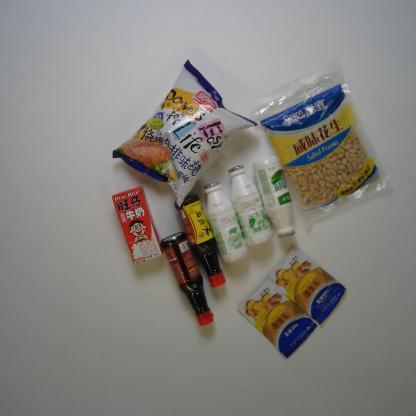Dried Fruit: (243, 56, 401, 230)
Milk: (107, 182, 168, 267), (225, 160, 276, 250), (200, 178, 252, 265), (250, 151, 298, 240)
Puffed Food: (108, 55, 261, 215)
Seasoner: (235, 274, 320, 360), (265, 245, 349, 328), (158, 228, 216, 330), (172, 190, 228, 290)
